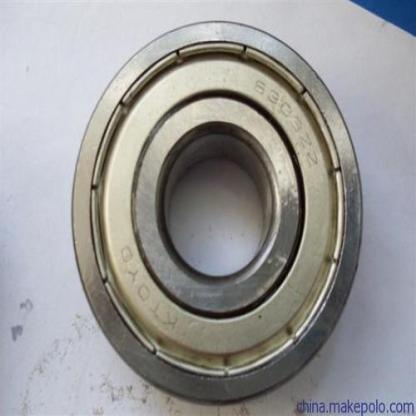FOD: (67, 15, 366, 404)
